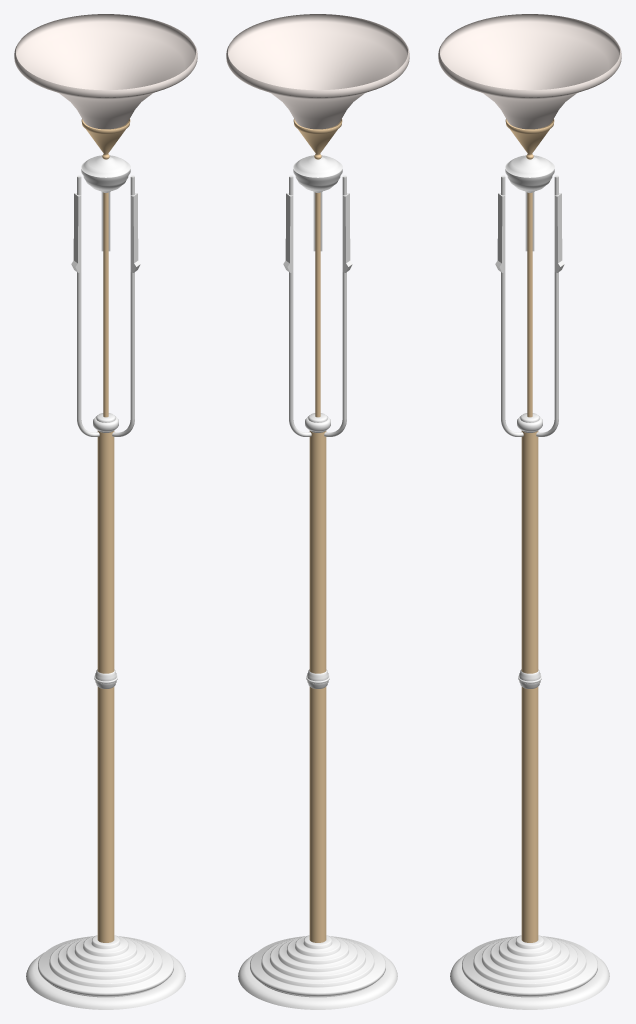
Rendered from MODUL_FLOOR-LAMP.fbx.
3 views of the same model, side by side, from view 1: azimuth 30°, elevation 25°; view 2: azimuth 150°, elevation 25°; view 3: azimuth 270°, elevation 25° (orthographic).
Parts seen in each view (by area): view 1: Objects; view 2: Objects; view 3: Objects.
Boxes of the visible parts, x1,y1,x2,y2 form: Objects: (14, 14, 197, 1009); Objects: (226, 14, 409, 1009); Objects: (438, 14, 621, 1009).
Size of the model in its own units: 32.57 by 181 by 32.57.
